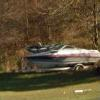Boat: (24, 36, 100, 81)
